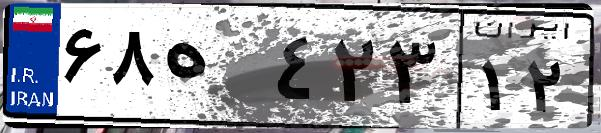1: (475, 38, 525, 113)
2: (330, 28, 385, 110), (525, 38, 570, 115)
3: (385, 28, 445, 110)
4: (270, 28, 330, 110)
6: (57, 26, 110, 100)
8: (110, 28, 158, 98)
ه: (158, 20, 270, 120)
